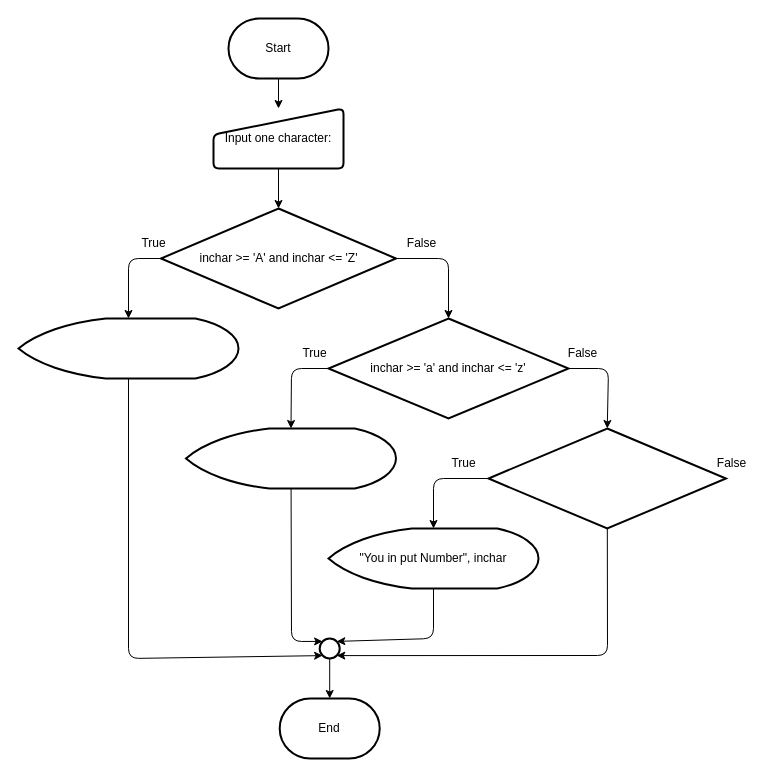
The diagram is 773 pixels wide and 776 high, and some of its shapes have lost their labels. Each missing label, with the centre of its shape:
"You in put Upper Case Letter ", inchar: the point at 128,348
inchar >= '0' and inchar <= '9': the point at 606,478
You in put Lower Case Letter ", inchar: the point at 290,458
